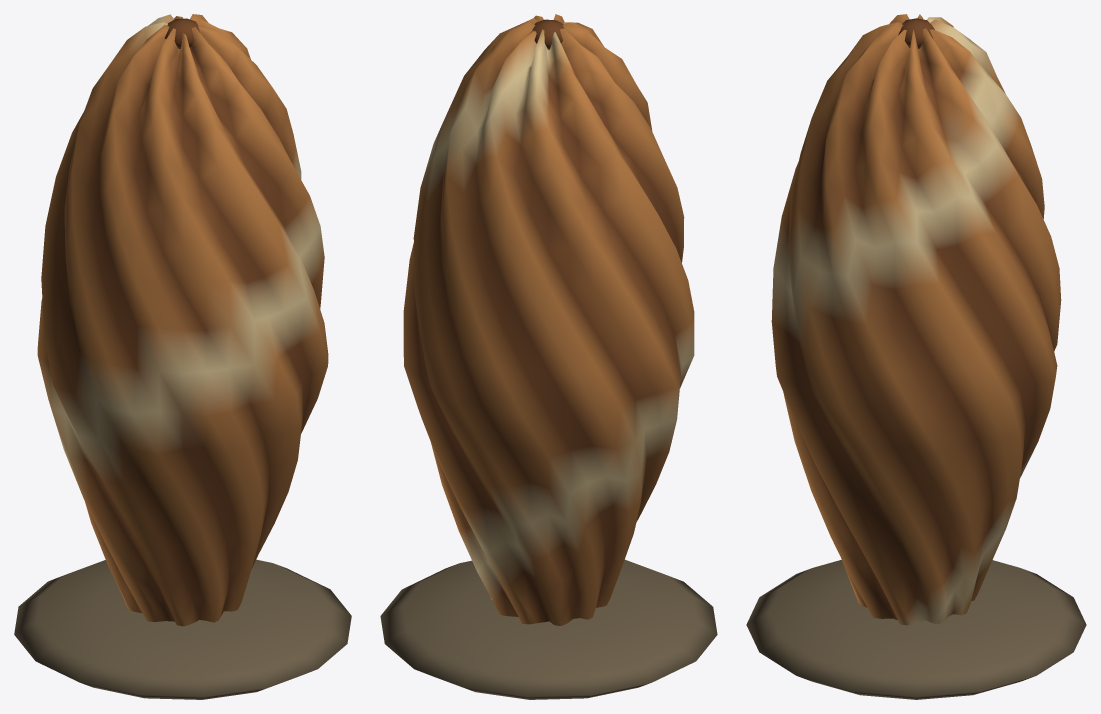
The model's file is Helicoplacus.fbx.
3 views of the same model, side by side, from view 1: azimuth 30°, elevation 25°; view 2: azimuth 150°, elevation 25°; view 3: azimuth 270°, elevation 25° (orthographic).
Parts seen in each view (by area): view 1: Helicoplacus; view 2: Helicoplacus; view 3: Helicoplacus.
Part boxes in pixels (bbox=[...]): Helicoplacus: bbox=[14, 14, 351, 699]; Helicoplacus: bbox=[380, 14, 717, 699]; Helicoplacus: bbox=[746, 14, 1086, 699].
Bounding box in the file's own units: 0.48 × 1.04 × 0.48.
